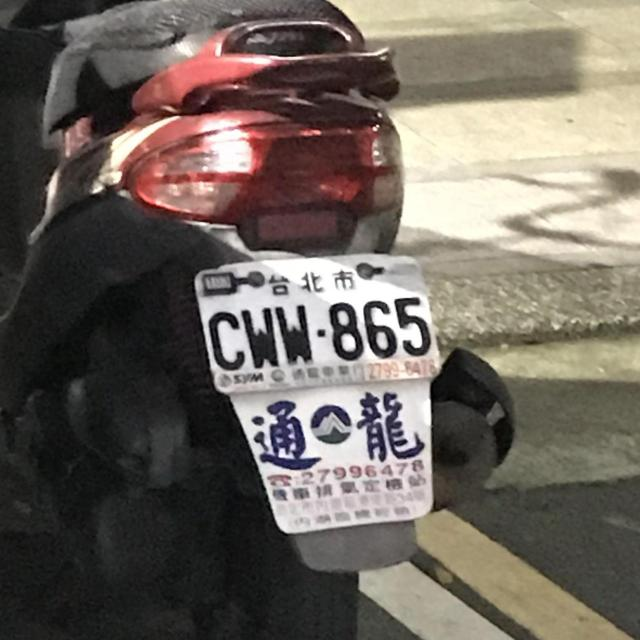W: (186, 238, 447, 398)
